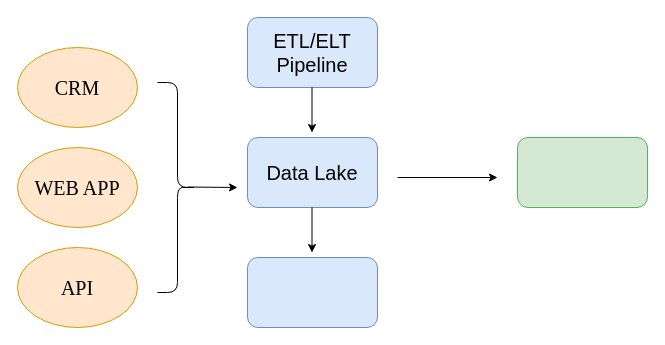
Image size: 665x345. Some labels were removed from this diagram. Here are the shapes that lost their labels. From the top down, the centre of each, then its label:
At (x=582, y=172): "BI Tool".
At (x=312, y=292): "Data Warehouse".
